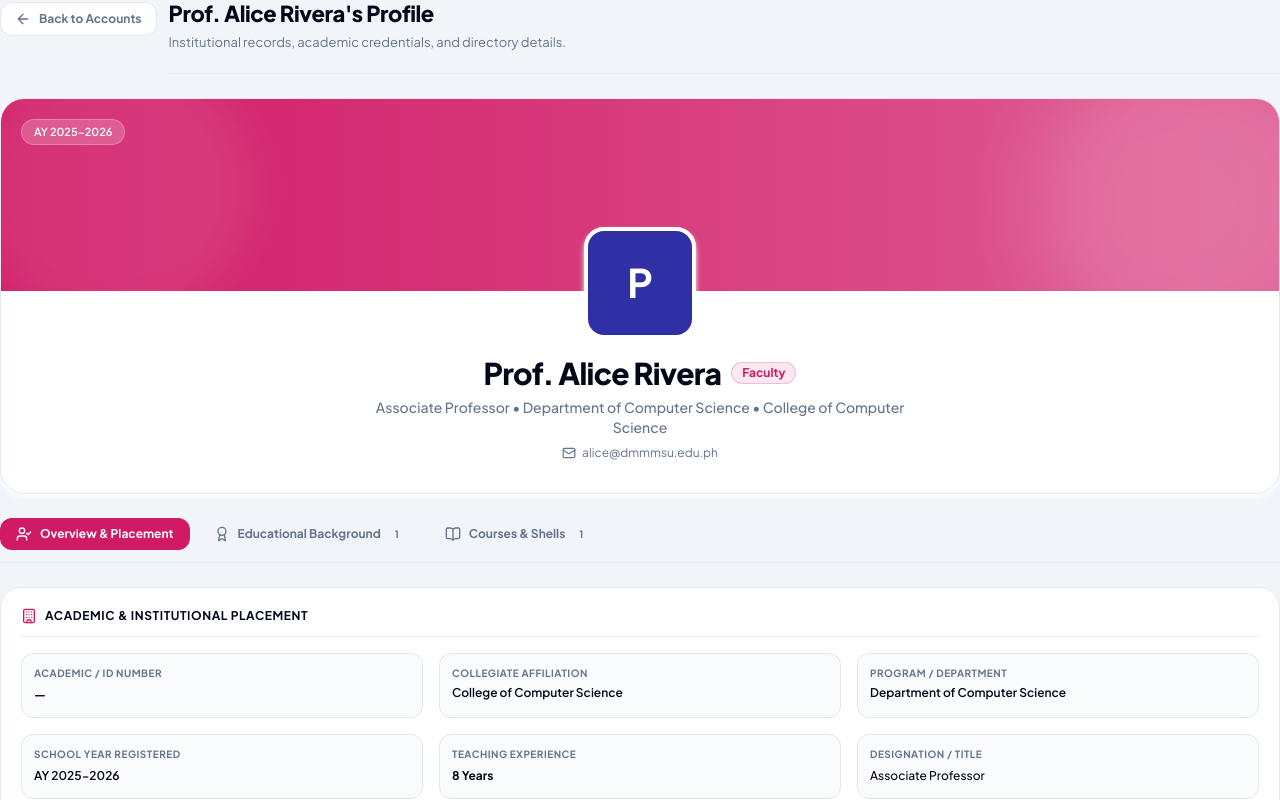
Test case: AccountProfilePage Component › renders faculty profile with Educational Background degrees and appropriate field visibility
Expected: the heading "Prof. Alice Rivera's Profile" is shown, [168,0,434,27]
Expected: the text "Teaching Experience" is shown, [452,748,576,760]
Click the tab "Educational Background 1".
click(309, 534)  # box [198,518,421,550]
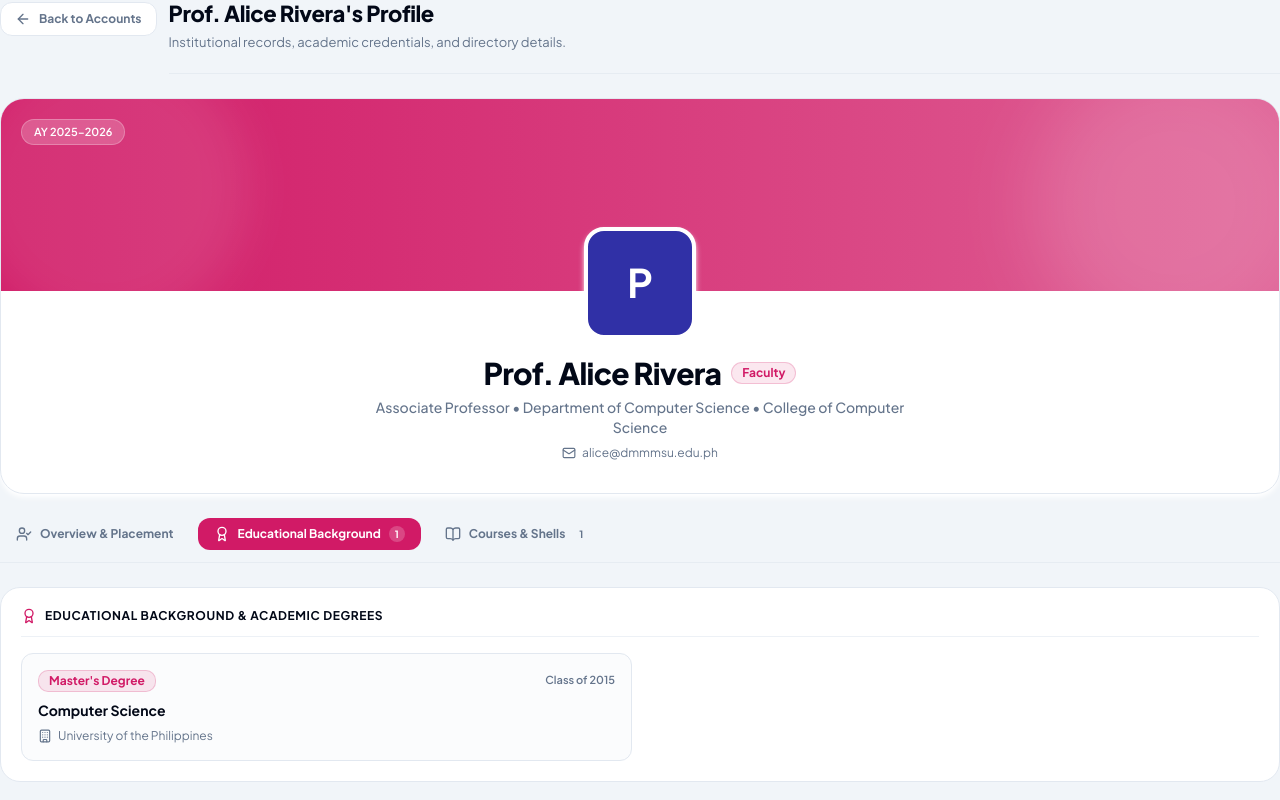
Now the text "Master's Degree" is shown, box [38,670,156,692]
Now the text "University of the Philippines" is shown, box [58,728,213,744]
Now the text "Class of 2015" is shown, box [545,672,615,689]
